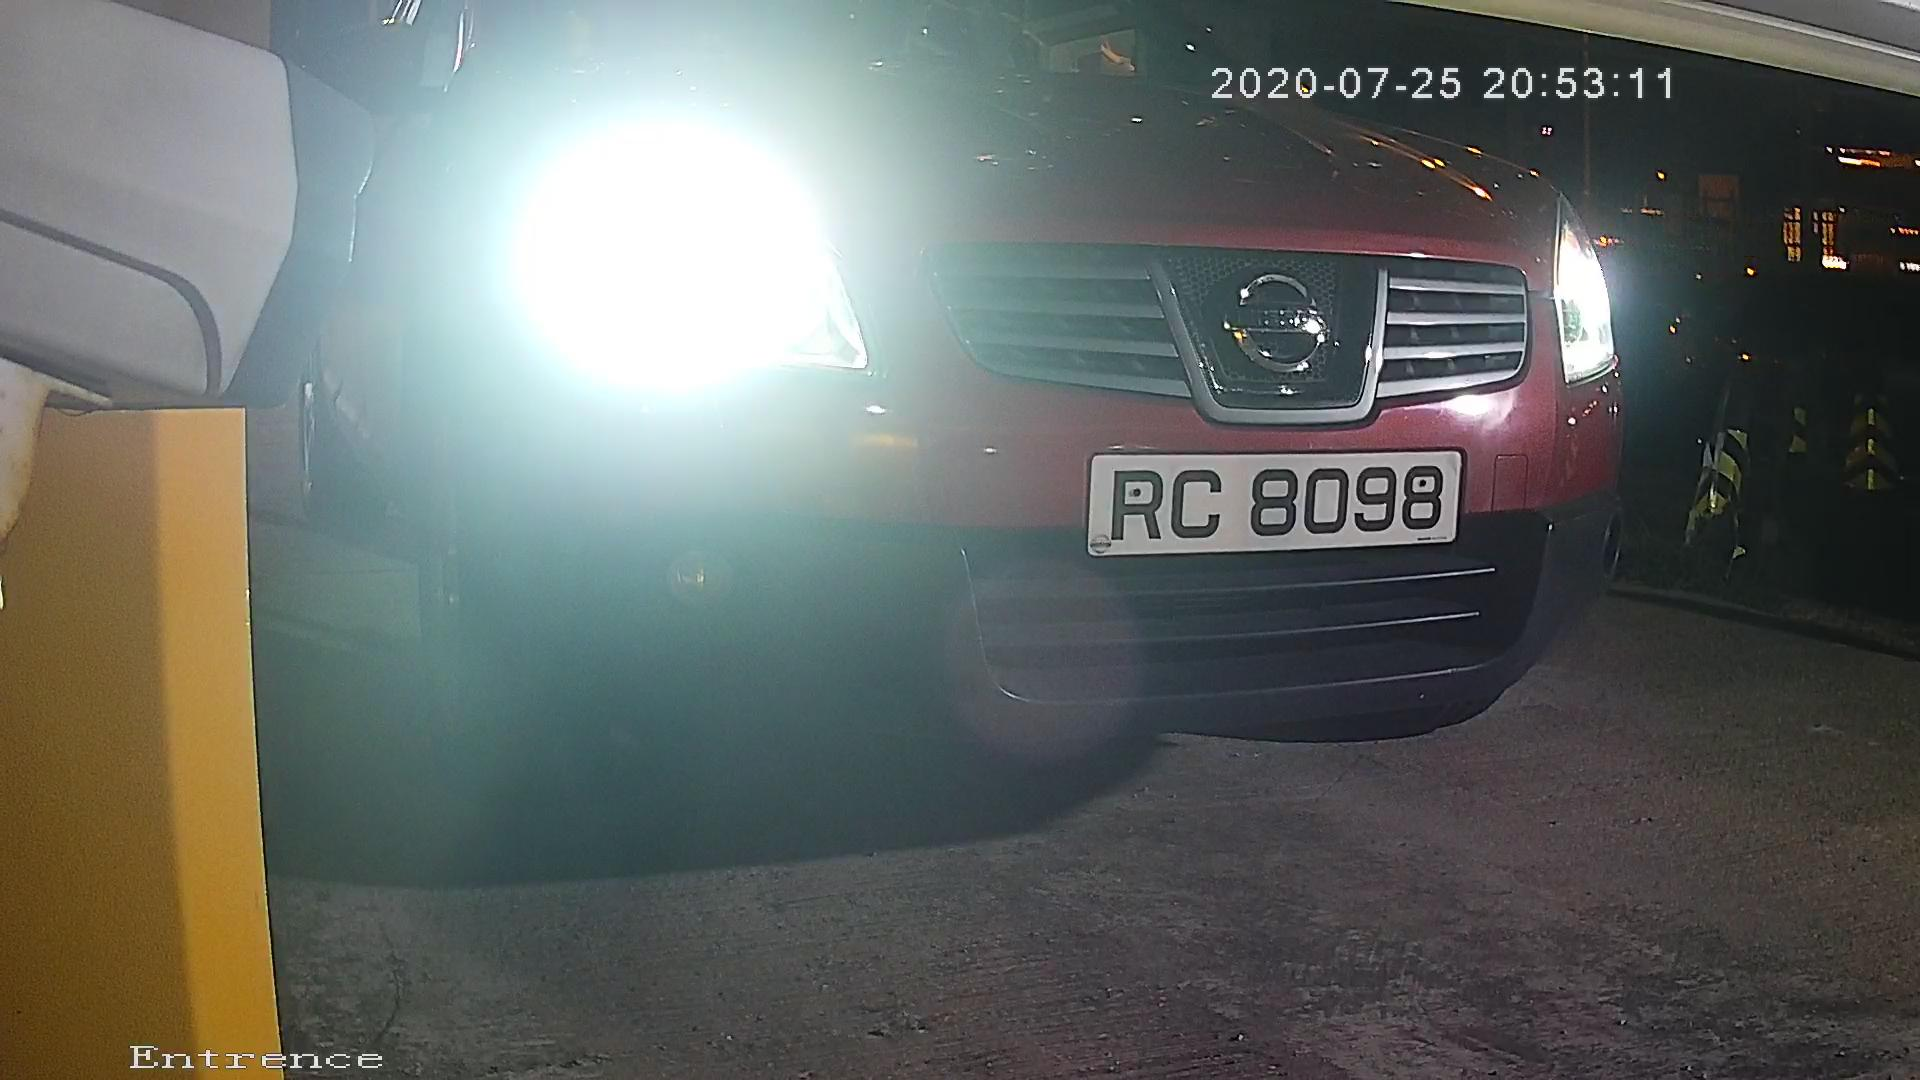Car: (69, 10, 1766, 815)
License Plate: (1055, 434, 1492, 565)
